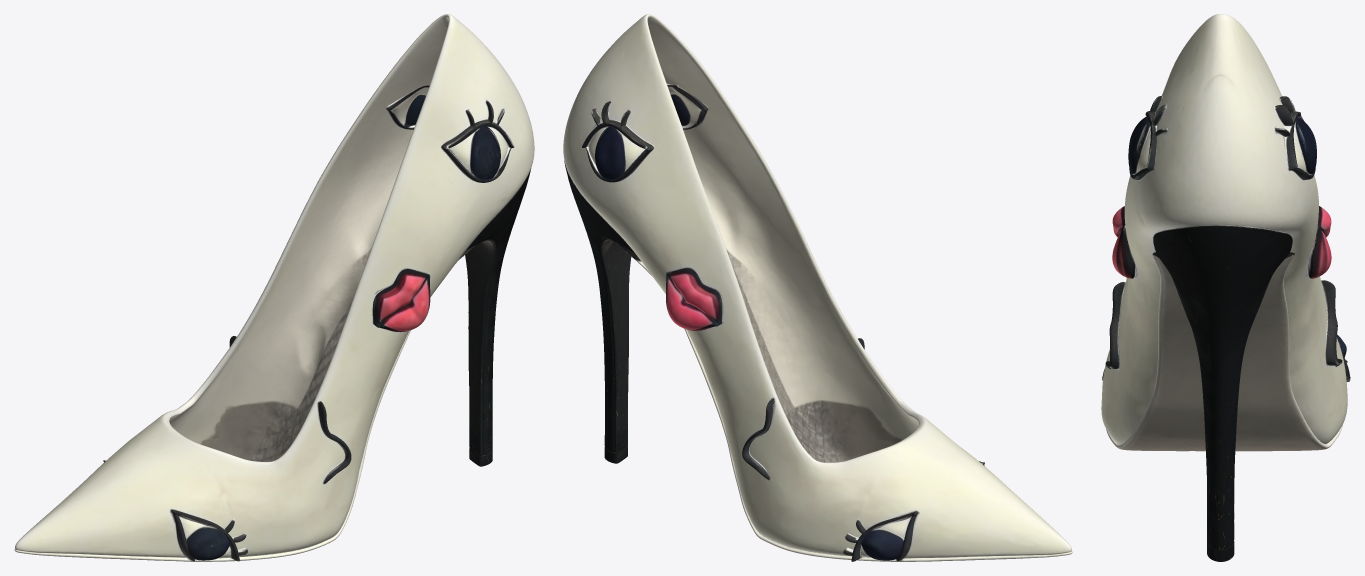
Rendered from schiaparelli.glb.
3 renders of one model, left to right at view 1: azimuth 30°, elevation 25°; view 2: azimuth 150°, elevation 25°; view 3: azimuth 270°, elevation 25°, orthographic. The views are drawn at different scales.
Bounding box in the file's own units: 1.9 × 1.64 × 0.7002.
1 material, 1 textured.
